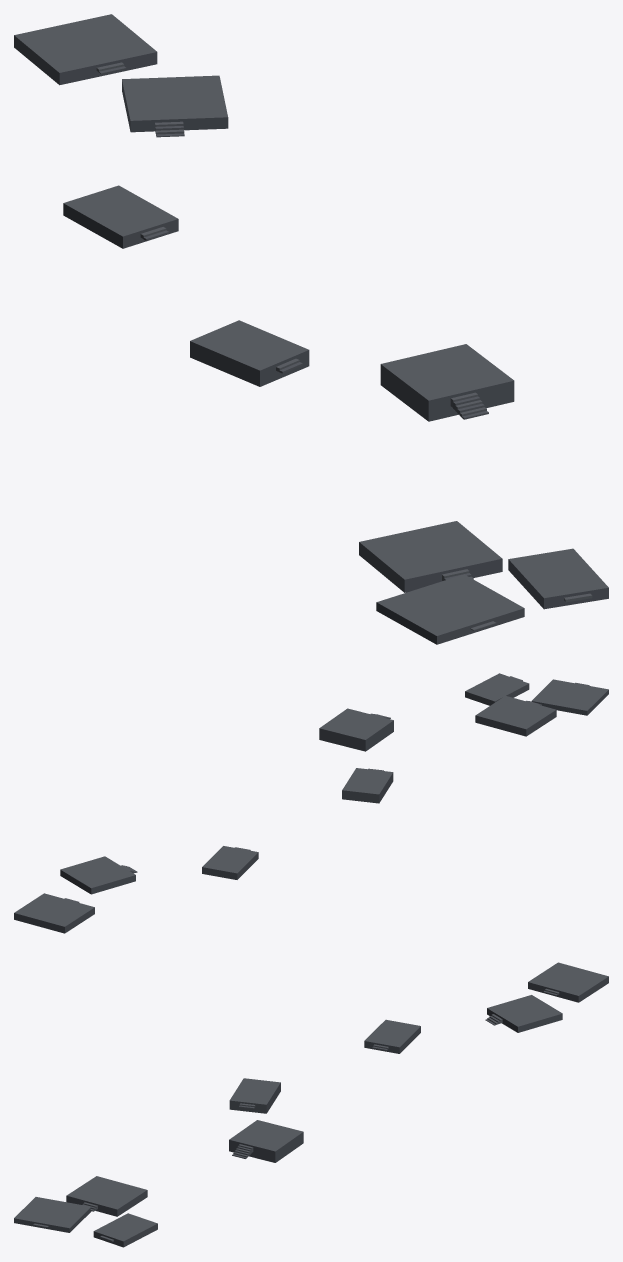
The picture shows the model from 3 angles, top to bottom: view 1: azimuth 30°, elevation 25°; view 2: azimuth 150°, elevation 25°; view 3: azimuth 330°, elevation 25°; orthographic projection. The views are drawn at different scales.
Visible parts, largest first — view 1: village_bases; view 2: village_bases; view 3: village_bases.
Part boxes in pixels (bbox=[...]): village_bases: bbox=[14, 14, 608, 644]; village_bases: bbox=[14, 673, 608, 933]; village_bases: bbox=[14, 962, 608, 1247].
Size of the model in its own units: 39.02 by 5.67 by 119.
Materials: 1 (1 with a texture image).
